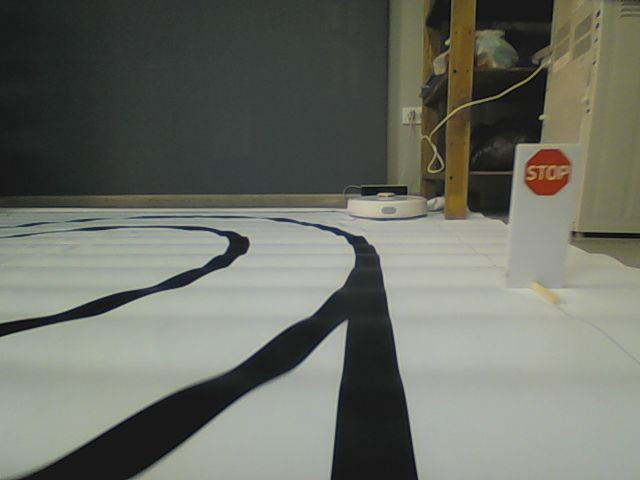Stop: (523, 150, 571, 195)
